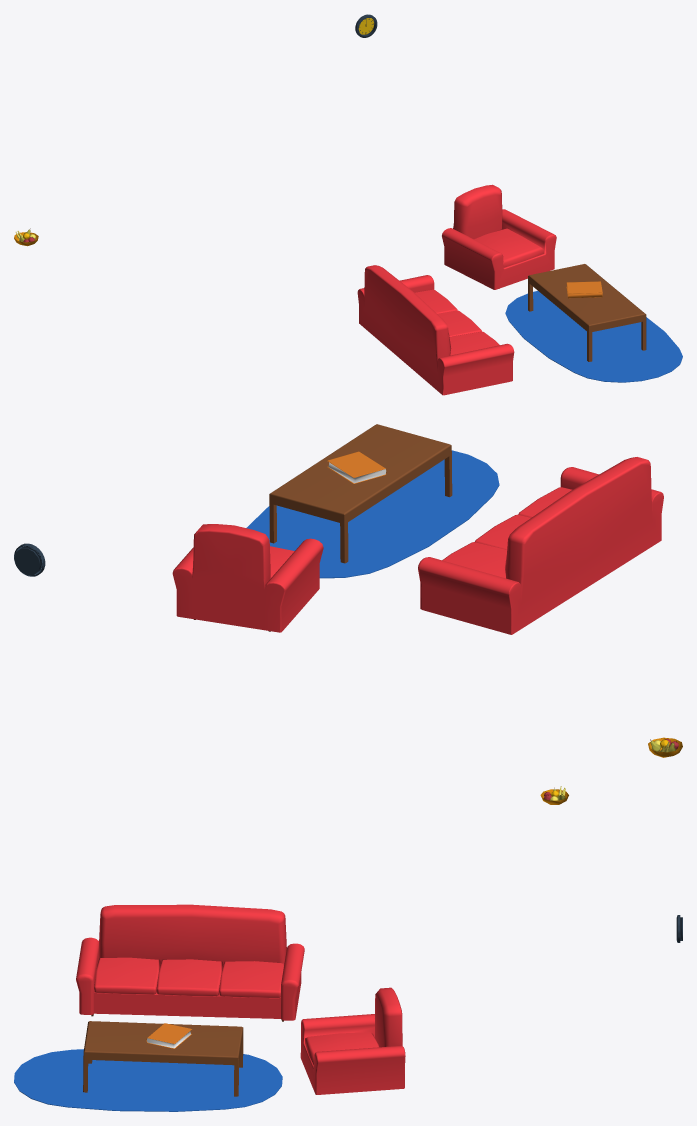
Rendered from apartmentDynamic.fbx.
The picture shows the model from 3 angles, top to bottom: view 1: azimuth 30°, elevation 25°; view 2: azimuth 150°, elevation 25°; view 3: azimuth 270°, elevation 25°; orthographic projection. The views are drawn at different scales.
Parts seen in each view (by area): view 1: Couch, Coffee_Table_Rug, ArmChair, Coffee_Table, Coffee_Book; view 2: Couch, Coffee_Table_Rug, ArmChair, Coffee_Table, Coffee_Book, Clock; view 3: Couch, Coffee_Table_Rug, ArmChair, Coffee_Table, Coffee_Book.
Boxes of the visible parts, x1,y1,x2,y2 form: Couch: (357,265,514,395); Coffee_Table_Rug: (505,291,682,382); ArmChair: (442,184,556,289); Coffee_Table: (528,264,646,361); Coffee_Book: (566,281,602,298); Couch: (418,457,663,634); Coffee_Table_Rug: (246,450,499,578); ArmChair: (172,524,323,632); Coffee_Table: (269,424,452,563); Coffee_Book: (327,451,386,483); Clock: (14,543,45,576); Couch: (76,904,304,1021); Coffee_Table_Rug: (14,1049,282,1111); ArmChair: (300,987,405,1094); Coffee_Table: (83,1021,243,1096); Coffee_Book: (146,1023,191,1048).
Bounding box in the file's own units: 653 × 203 × 730.
